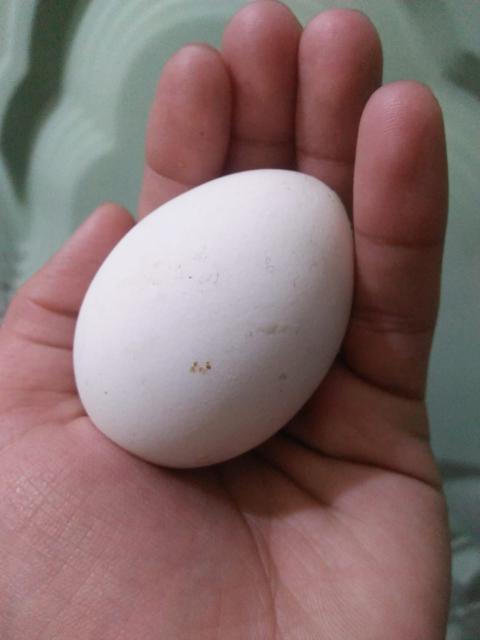Sano: (71, 166, 356, 470)
